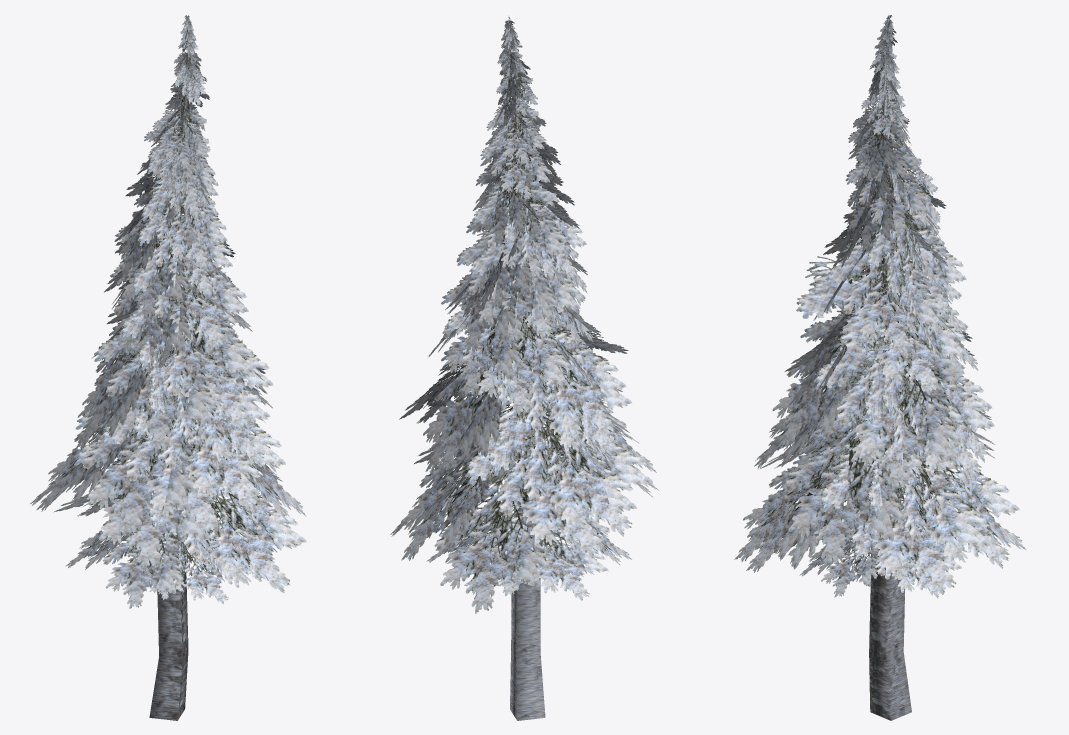
File: SM_EN_2007_shu_01.FBX
The picture shows the model from 3 angles, left to right: view 1: azimuth 30°, elevation 25°; view 2: azimuth 150°, elevation 25°; view 3: azimuth 270°, elevation 25°; orthographic projection. The views are drawn at different scales.
Parts seen in each view (by area): view 1: SM_EN_2007_shu_0101, SM_EN_2007_shu_0102; view 2: SM_EN_2007_shu_0101, SM_EN_2007_shu_0102; view 3: SM_EN_2007_shu_0101, SM_EN_2007_shu_0102.
Boxes of the visible parts, left/top/right/bottom form: SM_EN_2007_shu_0101: left=30, top=15, right=306, bottom=608; SM_EN_2007_shu_0102: left=149, top=17, right=189, bottom=720; SM_EN_2007_shu_0101: left=390, top=15, right=658, bottom=613; SM_EN_2007_shu_0102: left=508, top=18, right=545, bottom=720; SM_EN_2007_shu_0101: left=734, top=15, right=1026, bottom=598; SM_EN_2007_shu_0102: left=869, top=17, right=911, bottom=720.
Bounding box in the file's own units: 735 × 1705 × 746.
